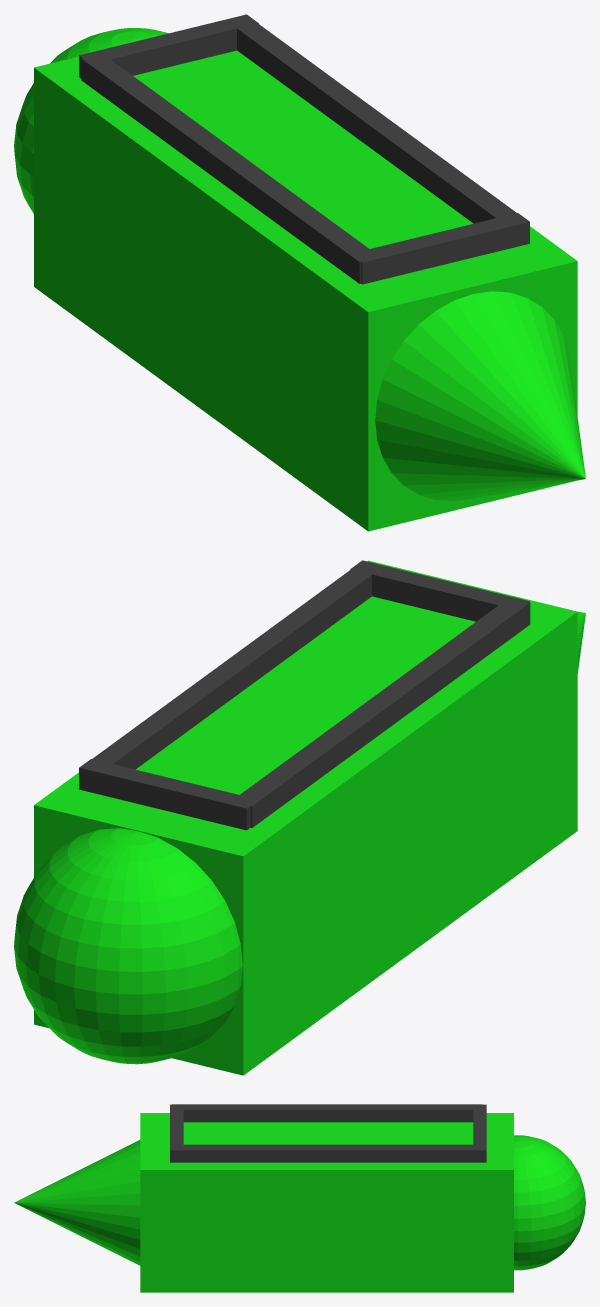
Rendered from pointer.fbx.
The picture shows the model from 3 angles, top to bottom: view 1: azimuth 30°, elevation 25°; view 2: azimuth 150°, elevation 25°; view 3: azimuth 270°, elevation 25°; orthographic projection. The views are drawn at different scales.
Parts seen in each view (by area): view 1: Cone, Cube.002; view 2: Cone, Cube.002; view 3: Cone, Cube.002.
Boxes of the visible parts, x1,y1,x2,y2 form: Cone: [14, 28, 585, 531]; Cube.002: [79, 14, 529, 284]; Cone: [14, 560, 585, 1075]; Cube.002: [79, 560, 530, 830]; Cone: [14, 1113, 585, 1292]; Cube.002: [170, 1104, 486, 1162].
Bounding box in the file's own units: 40 × 44.54 × 169.
